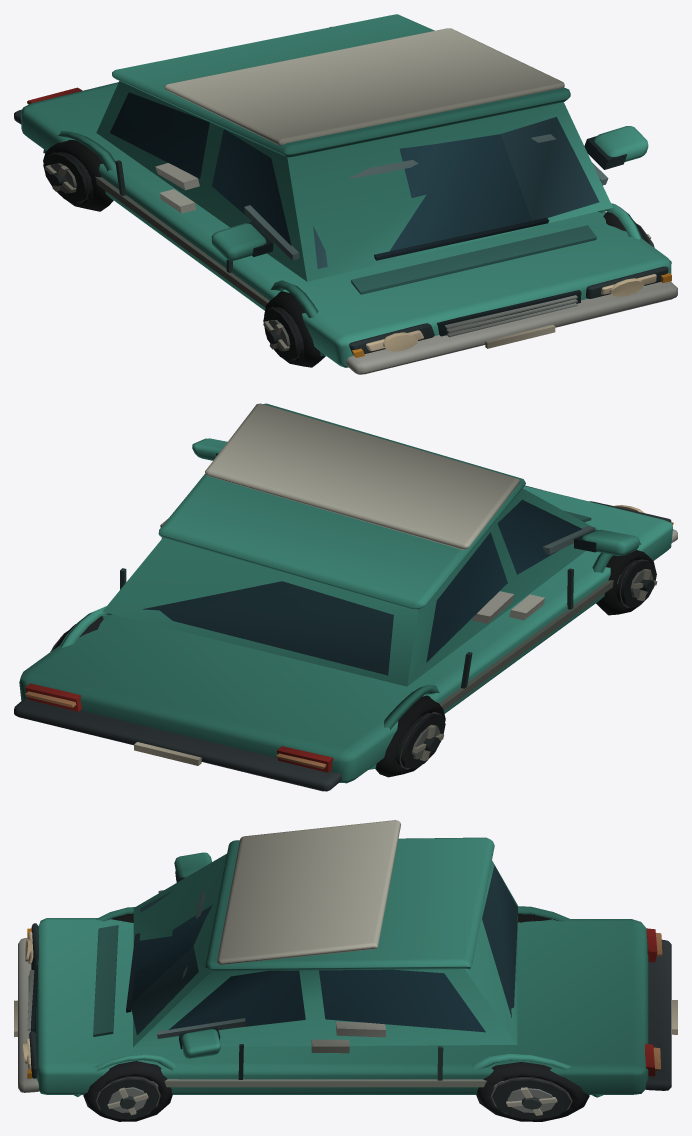
File: compact.glb
3 renders of one model, top to bottom at view 1: azimuth 30°, elevation 25°; view 2: azimuth 150°, elevation 25°; view 3: azimuth 270°, elevation 25°, orthographic. The views are drawn at different scales.
Visible parts, largest first — view 1: compact_body; view 2: compact_body; view 3: compact_body.
Part boxes in pixels (x1,y1,x2,y2): compact_body: (14,14,677,374); compact_body: (14,403,677,791); compact_body: (14,820,677,1121).
Size of the model in its own units: 2.16 by 0.8158 by 3.1.
